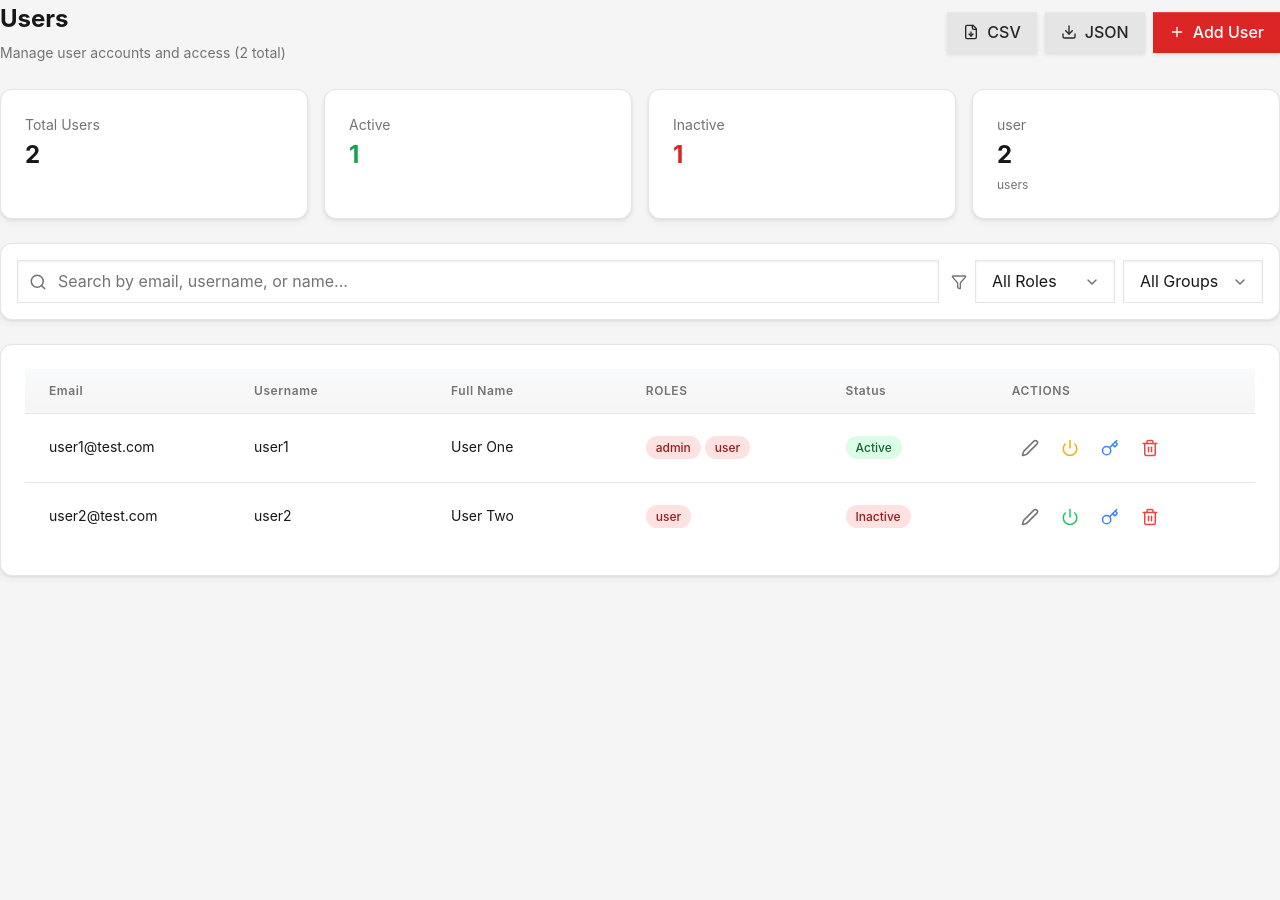
Test: UsersManagement › opens add user modal
Expected: the text "user1@test.com" is shown, x1=25 y1=413 x2=230 y2=482
Click the button "Add User": (1216, 32) x1=1153 y1=12 x2=1279 y2=53
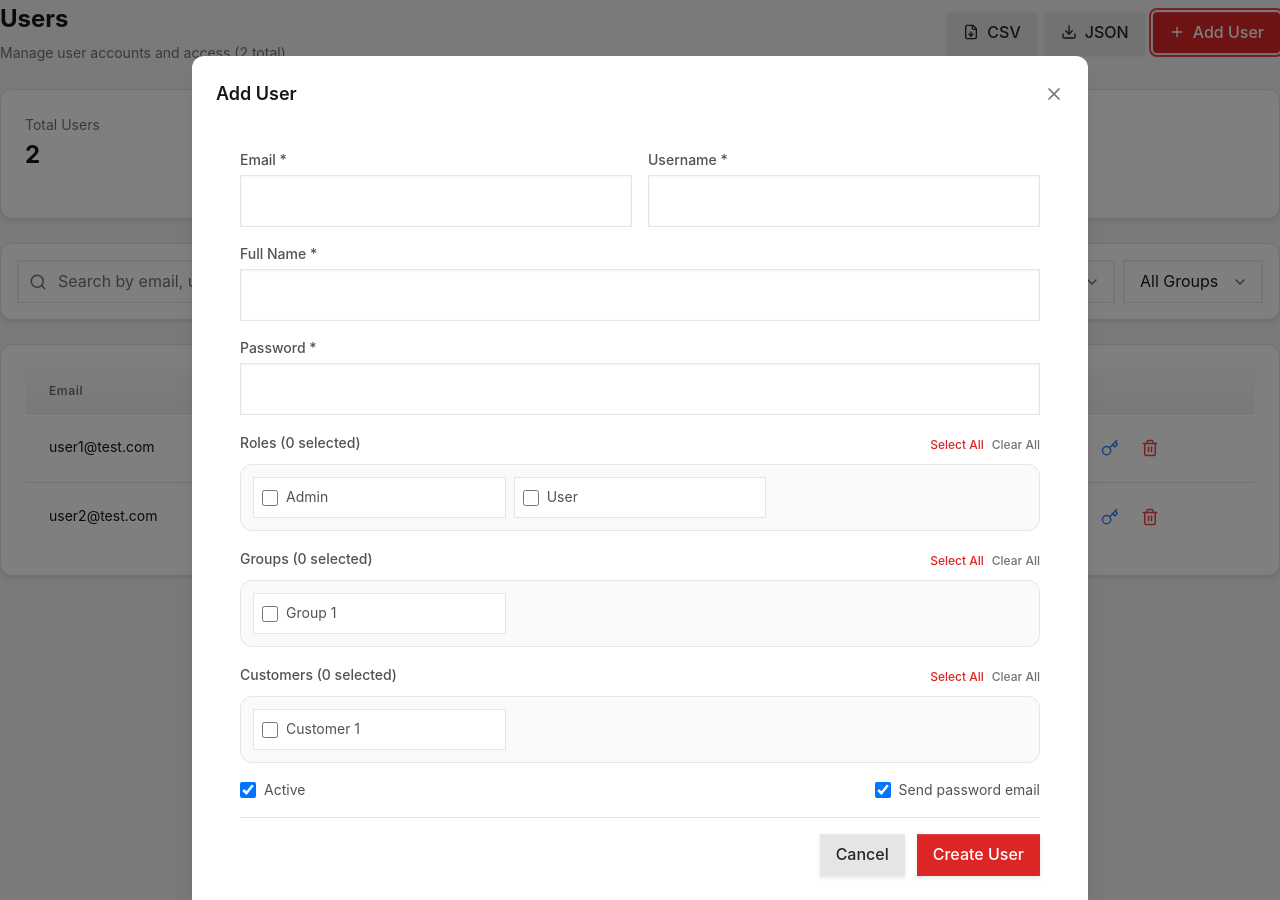
Now the button "Create User" is shown, box x1=917 y1=834 x2=1040 y2=876
